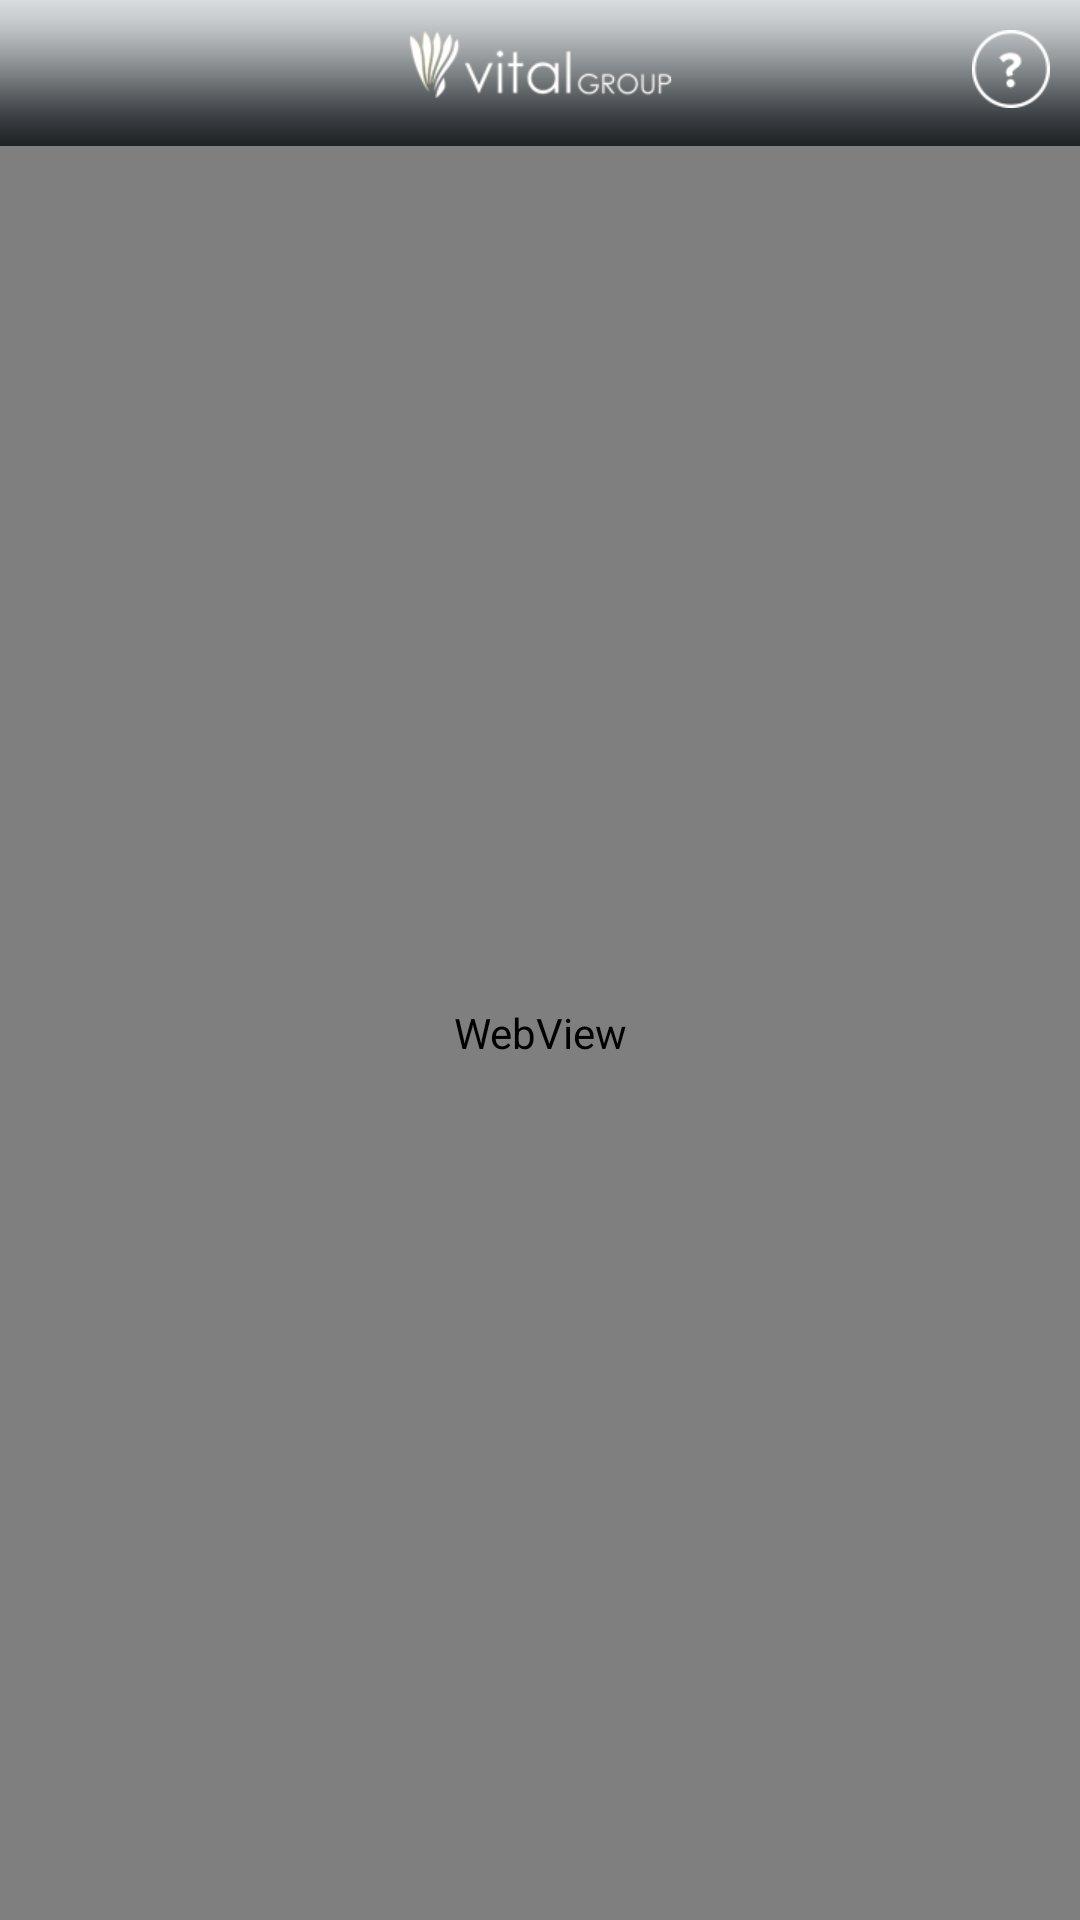

Named icons in this screenshot (1080w x 1920h) and their centers, [x,y]:
help: [1011,69]
